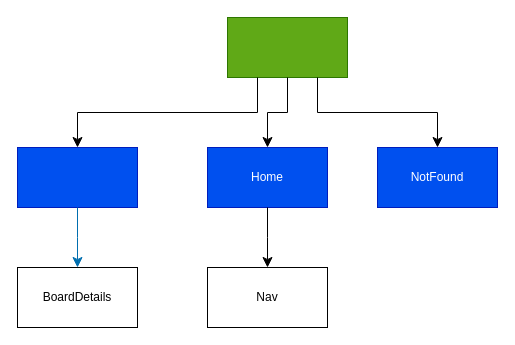
Image size: 515x345. Some labels were removed from this diagram. The centre of each missing label's shape, as x and y in pixels:
AppRouter: (287,47)
BoardList: (77,177)
